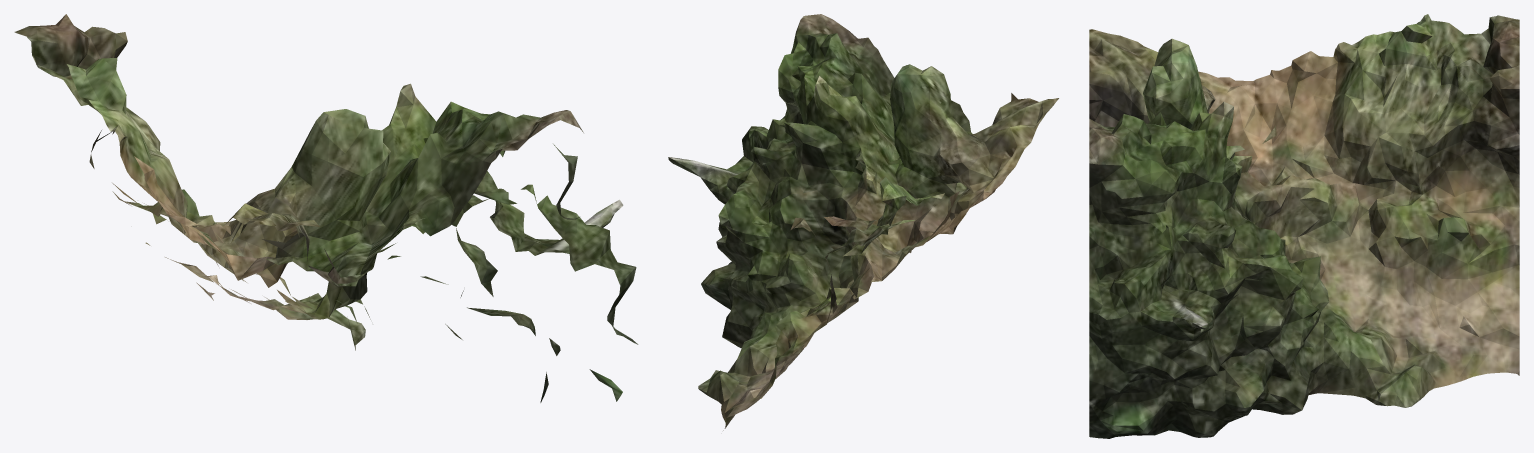
3 renders of one model, left to right at view 1: azimuth 30°, elevation 25°; view 2: azimuth 150°, elevation 25°; view 3: azimuth 270°, elevation 25°, orthographic. The views are drawn at different scales.
Size of the model in its own units: 2.95 by 2.28 by 2.95.
Materials: 4 (4 with a texture image).
